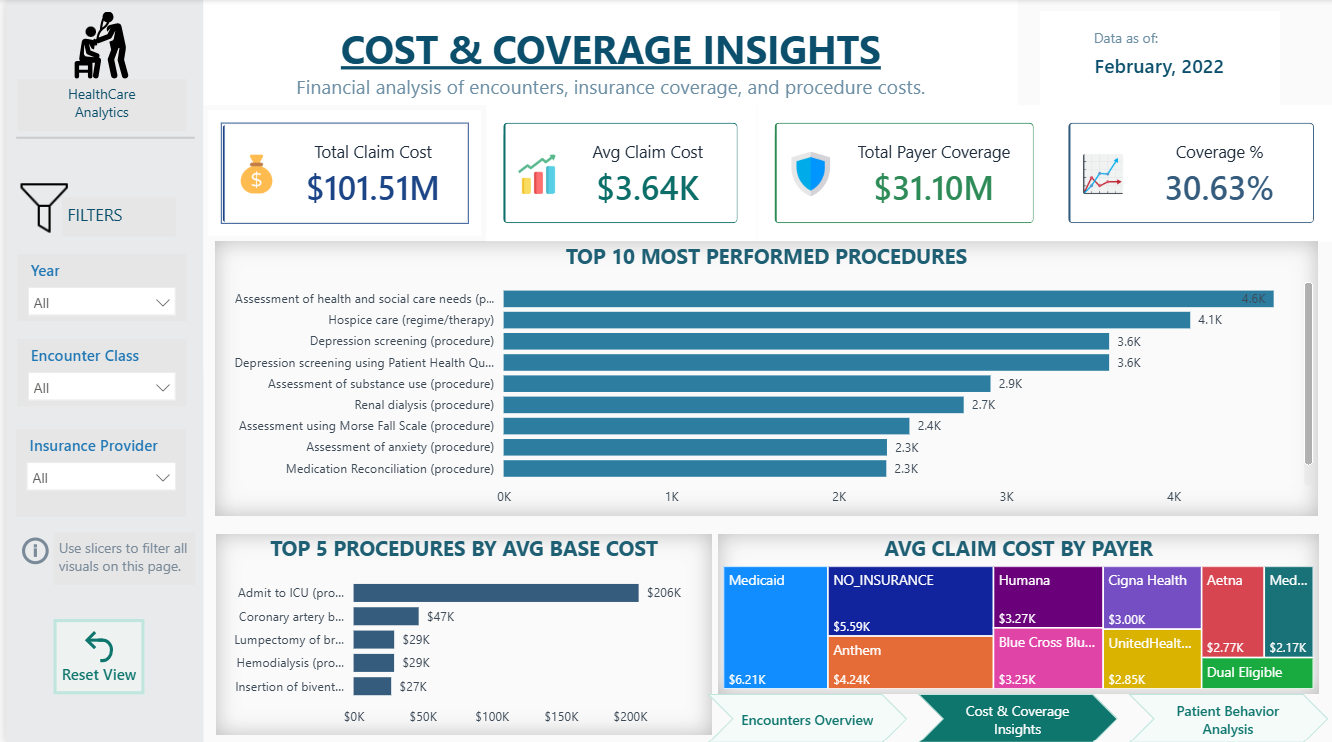

What the dashboard file says about the page in this screenshot:
{"tool":"powerbi","page":{"name":"Cost & Coverage Insights","canvas":[1280,720],"ordinal":1},"visuals":[{"type":"group","id":"g1","title":"Left Pane Group","box":[0,0,190.8,720.2],"z":0},{"type":"shape","title":"Sidebar BackgroundSidebar Background","box":[0,0,190.8,720.2],"z":0,"group":"g2"},{"type":"image","box":[25.4,12.1,134,65.1],"z":1000,"group":"g2"},{"type":"actionButton","box":[45.3,598.2,87.8,72.7],"z":1000},{"type":"textbox","box":[190.8,0,786.3,102.7],"z":2000},{"type":"textbox","box":[10.9,77.2,163,50.7],"z":2000,"group":"g2"},{"type":"cardVisual","fields":{"Data":["Measure.Total Claim Cost"]},"box":[190.7,102.9,273.1,131.7],"z":3000},{"type":"textbox","box":[54.3,191.8,109.9,37.4],"z":3000,"group":"g2"},{"type":"cardVisual","fields":{"Data":["Measure.Avg Claim Cost"]},"box":[463.8,102.9,260.7,131.7],"z":4000},{"type":"image","box":[10.9,174.9,51.9,54.3],"z":4000,"group":"g2"},{"type":"cardVisual","fields":{"Data":["Measure.Total Payer Coverage"]},"box":[724.5,102.9,284,131.7],"z":5000},{"type":"slicer","fields":{"Values":["Calendar.Year"]},"box":[10.9,246.1,163,65.1],"z":5000,"group":"g2"},{"type":"cardVisual","fields":{"Data":["Measure.Coverage %"]},"box":[1008.6,102.9,271.7,131.7],"z":6000},{"type":"shape","box":[9.7,127.9,172.7,12.1],"z":6000,"group":"g2"},{"type":"clusteredBarChart","title":"TOP 10 MOST PERFORMED PROCEDURES","fields":{"Y":["Measure.Procedure Count"],"Category":["Procedures.Short Description"]},"box":[201.7,234.6,1064.8,264.8],"z":7000},{"type":"slicer","fields":{"Values":["Encounters.ENCOUNTER CLASS(PROPER)"]},"box":[10.9,328.2,163,65.1],"z":7000,"group":"g2"},{"type":"slicer","fields":{"Values":["Payers.PAYER NAME"]},"box":[9.7,415,164.2,84.5],"z":8000,"group":"g2"},{"type":"clusteredBarChart","title":"TOP 5 PROCEDURES BY AVG BASE COST","fields":{"Category":["Procedures.Short Description"],"Y":["Measure.Avg Base Cost"]},"box":[202.4,515.8,478.8,194.4],"z":8000},{"type":"actionButton","box":[10.9,515.2,41.1,35],"z":9000,"group":"g2"},{"type":"treemap","title":"AVG CLAIM COST BY PAYER","fields":{"Group":["Payers.PAYER NAME"],"Values":["Measure.Avg Claim Cost"]},"box":[687.7,515.8,579.3,154.7],"z":9000},{"type":"group","id":"g2","title":"Group 2","box":[0,0,190.8,720.2],"z":9010,"group":"g1"},{"type":"cardVisual","title":"Data as of:","fields":{"Data":["Measure.Date_max"]},"box":[997.6,12.3,231.9,101.5],"z":10000},{"type":"textbox","box":[45.9,515.2,136.4,50.7],"z":10000,"group":"g2"},{"type":"textbox","box":[1044.3,23.3,79.6,27.4],"z":11000},{"type":"pageNavigator","box":[677.2,670.6,599.1,48.9],"z":12000}]}

Visuals, with their boxes in screenshot pixels (x1, y1, x2, y2), scaled from the page's 1280x720 canvas onto the 1332x742 screenshot:
"Left Pane Group" group: <region>0, 0, 199, 741</region>
"Sidebar BackgroundSidebar Background" shape: <region>0, 0, 199, 741</region>
image: <region>26, 12, 166, 80</region>
actionButton: <region>47, 616, 139, 691</region>
textbox: <region>199, 0, 1017, 106</region>
textbox: <region>11, 80, 181, 132</region>
cardVisual - Measure.Total Claim Cost: <region>198, 106, 483, 242</region>
textbox: <region>57, 198, 171, 236</region>
cardVisual - Measure.Avg Claim Cost: <region>483, 106, 754, 242</region>
image: <region>11, 180, 65, 236</region>
cardVisual - Measure.Total Payer Coverage: <region>754, 106, 1049, 242</region>
slicer - Calendar.Year: <region>11, 254, 181, 321</region>
cardVisual - Measure.Coverage %: <region>1050, 106, 1331, 242</region>
shape: <region>10, 132, 190, 144</region>
"TOP 10 MOST PERFORMED PROCEDURES" clusteredBarChart: <region>210, 242, 1318, 515</region>
slicer - Encounters.ENCOUNTER CLASS(PROPER): <region>11, 338, 181, 405</region>
slicer - Payers.PAYER NAME: <region>10, 428, 181, 515</region>
"TOP 5 PROCEDURES BY AVG BASE COST" clusteredBarChart: <region>211, 532, 709, 732</region>
actionButton: <region>11, 531, 54, 567</region>
"AVG CLAIM COST BY PAYER" treemap: <region>716, 532, 1318, 691</region>
"Group 2" group: <region>0, 0, 199, 741</region>
"Data as of:" cardVisual: <region>1038, 13, 1279, 117</region>
textbox: <region>48, 531, 190, 583</region>
textbox: <region>1087, 24, 1170, 52</region>
pageNavigator: <region>705, 691, 1328, 741</region>
